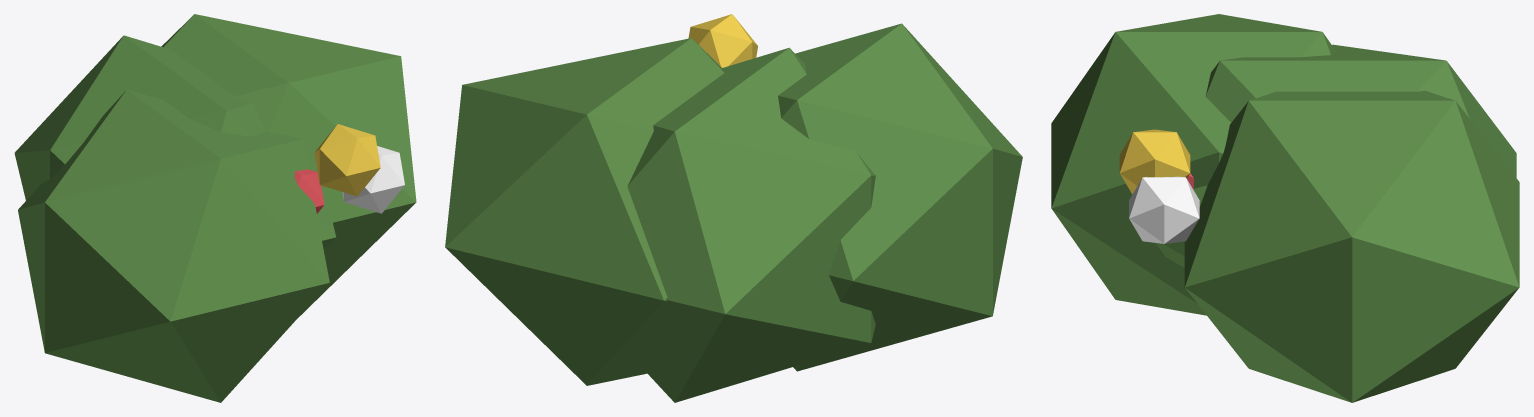
The model's file is Cali_1_Hafif.fbx.
3 renders of one model, left to right at view 1: azimuth 30°, elevation 25°; view 2: azimuth 150°, elevation 25°; view 3: azimuth 270°, elevation 25°, orthographic. The views are drawn at different scales.
Parts seen in each view (by area): view 1: Cali_1_Hafif; view 2: Cali_1_Hafif; view 3: Cali_1_Hafif.
Part boxes in pixels (x1,y1,x2,y2): Cali_1_Hafif: [14, 14, 416, 402]; Cali_1_Hafif: [445, 14, 1022, 402]; Cali_1_Hafif: [1051, 14, 1519, 402].
Bounding box in the file's own units: 1.28 × 0.7145 × 1.13.
